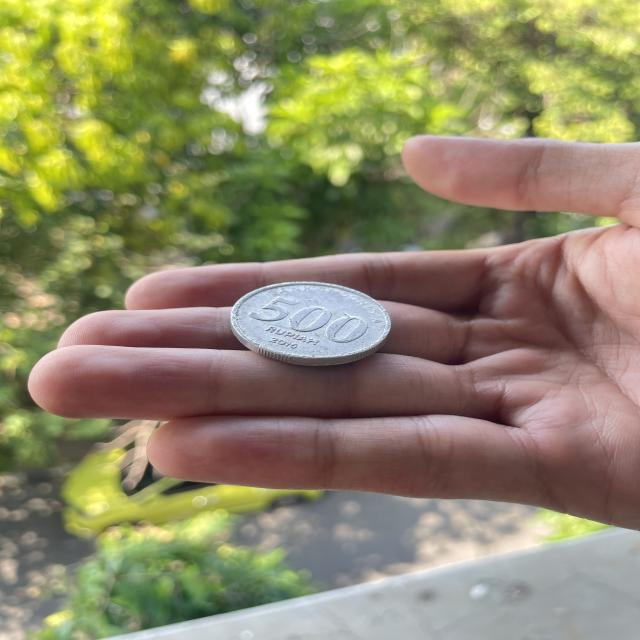500-silver: (225, 275, 399, 373)
